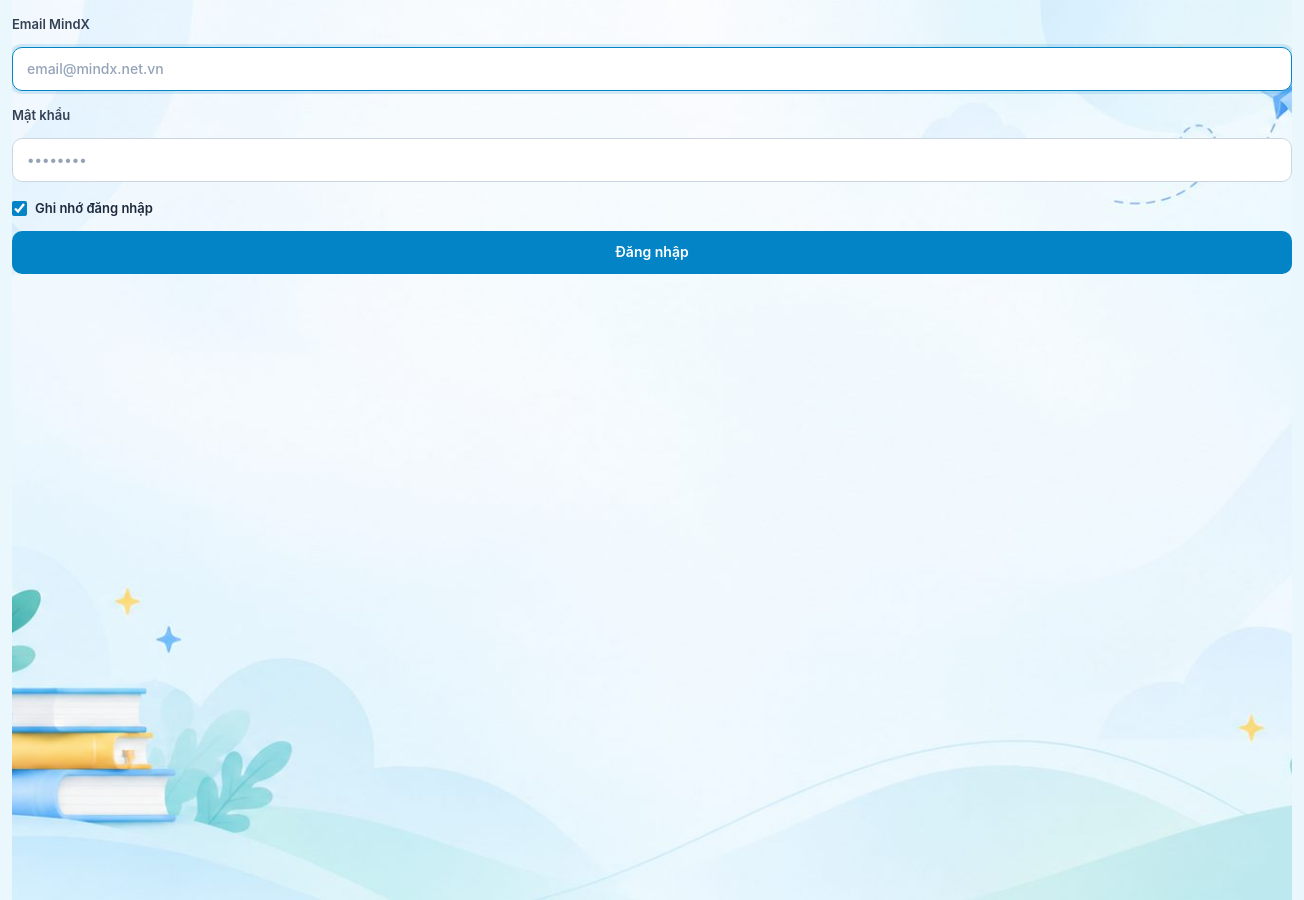
Test: login form › accepts a successful typed session and preserves remembered credentials
The width and height of the screenshot is (1304, 900).
In the field labelled "Email MindX": (652, 69) top-left (12, 47), bottom-right (1292, 91), type "teacher@example.com"
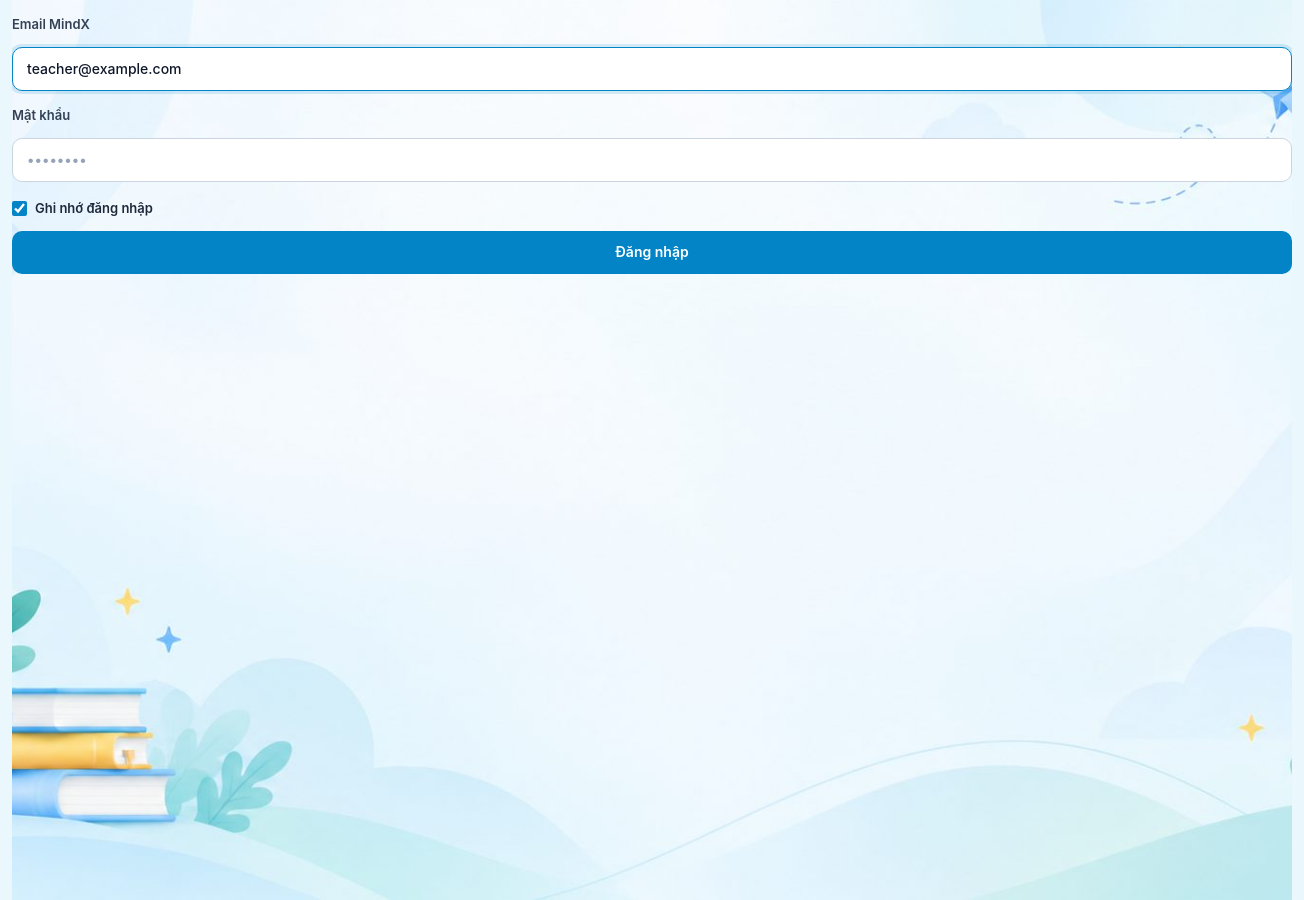
In the password field labelled "Mật khẩu": (652, 160) top-left (12, 138), bottom-right (1292, 182), type "secret"
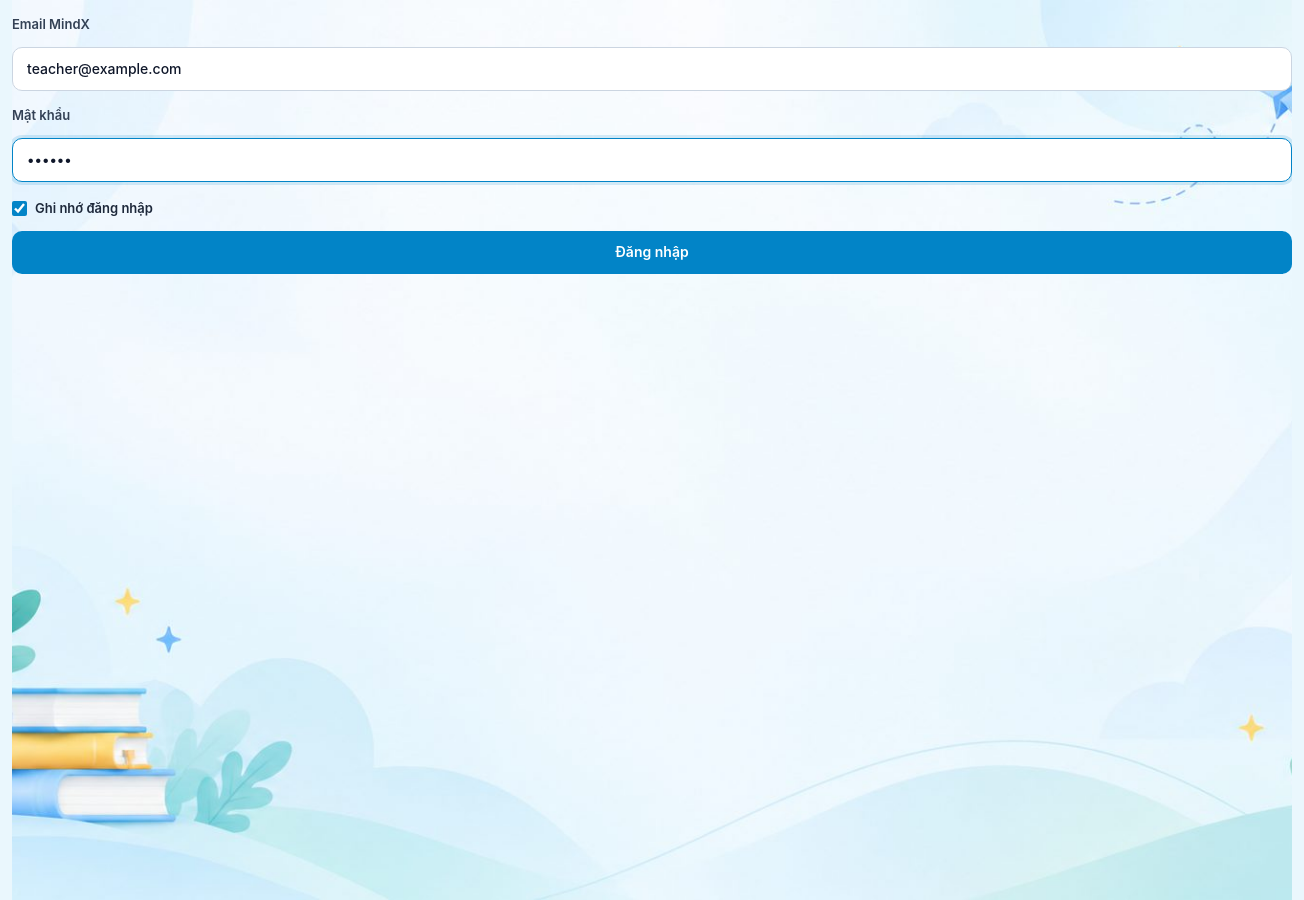
Click the button "Đăng nhập": (652, 252) top-left (12, 231), bottom-right (1292, 274)
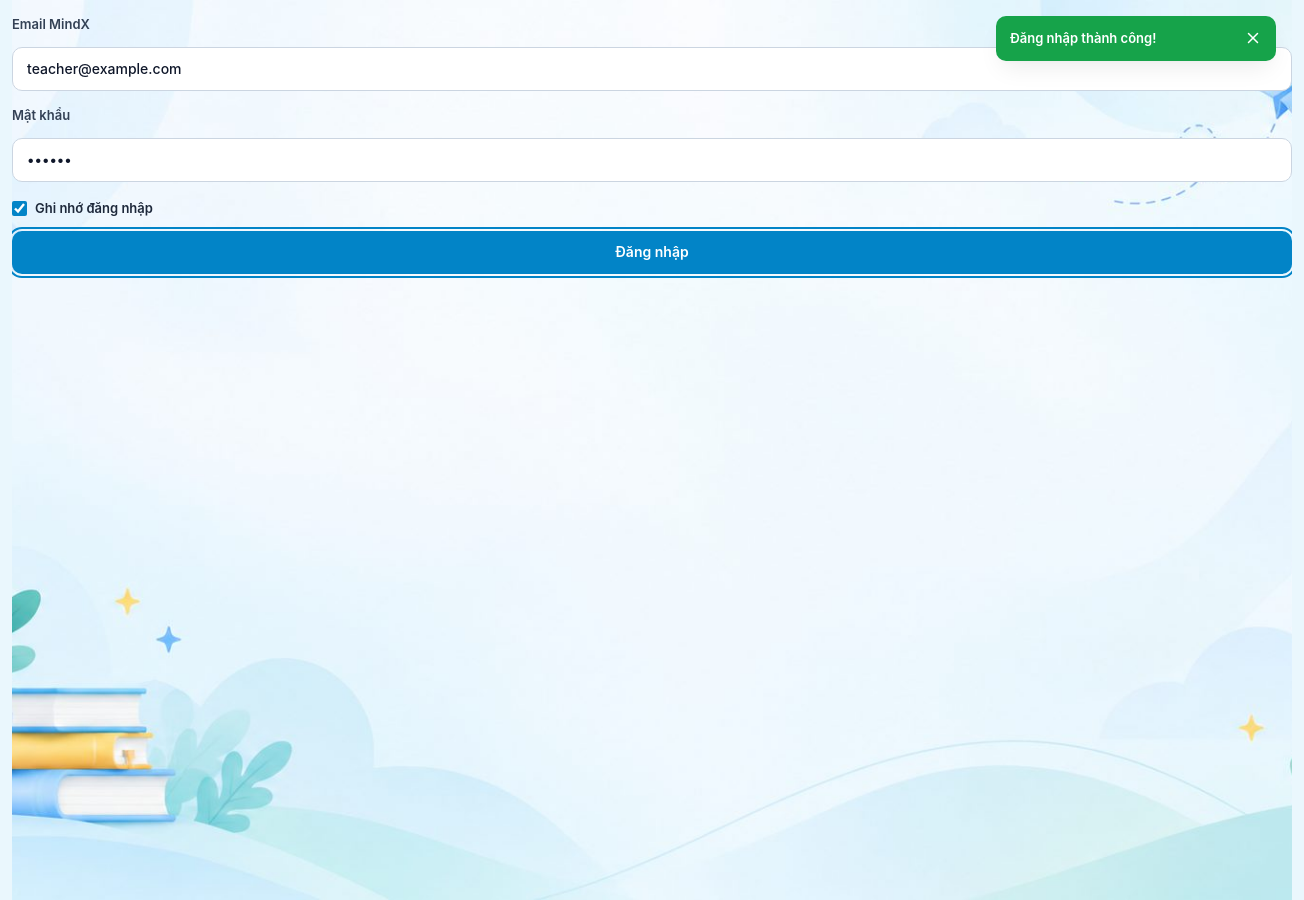
Check: the text "Đăng nhập thành công!" is shown, box top-left (1010, 28), bottom-right (1156, 49)
